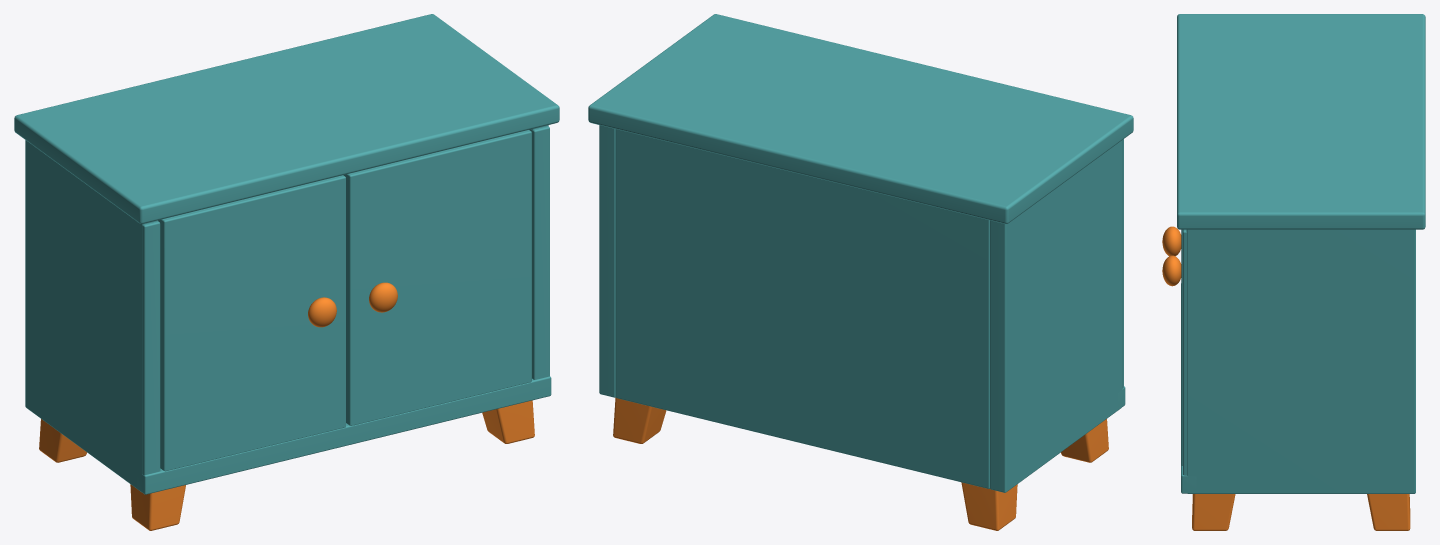
3 views of the same model, side by side, from view 1: azimuth 30°, elevation 25°; view 2: azimuth 150°, elevation 25°; view 3: azimuth 270°, elevation 25° (orthographic). The views are drawn at different scales.
Visible parts, largest first — view 1: Overhanging flat top, Left door, Right door, Left side panel, Front bottom rail, Left front stile, Right front stile, Left front orange foot, Right front orange foot, Left rear orange foot, Right round orange knob, Left round orange knob; view 2: Plain full back, Overhanging flat top, Left side panel, Right side panel, Left rear orange foot, Right rear orange foot, Left front orange foot; view 3: Right side panel, Overhanging flat top, Right rear orange foot, Right front orange foot, Right front stile, Right round orange knob, Left round orange knob, Front bottom rail, Right door.
Boxes of the visible parts, x1,y1,x2,y2 form: Overhanging flat top: (14, 14, 559, 223); Left door: (158, 175, 345, 471); Right door: (343, 130, 531, 425); Left side panel: (25, 140, 157, 491); Front bottom rail: (137, 376, 551, 494); Left front stile: (142, 221, 160, 475); Right front stile: (529, 126, 549, 379); Left front orange foot: (130, 484, 185, 530); Right front orange foot: (482, 400, 534, 443); Left rear orange foot: (39, 419, 86, 462); Right round orange knob: (369, 282, 397, 312); Left round orange knob: (308, 297, 336, 327); Plain full back: (615, 129, 989, 488); Overhanging flat top: (588, 14, 1133, 223); Left side panel: (990, 140, 1122, 492); Right side panel: (599, 125, 615, 397); Left rear orange foot: (961, 482, 1017, 530); Right rear orange foot: (613, 397, 666, 443); Left front orange foot: (1061, 419, 1108, 462); Right side panel: (1186, 229, 1415, 493); Overhanging flat top: (1177, 14, 1425, 229); Right rear orange foot: (1367, 494, 1410, 530); Right front orange foot: (1192, 494, 1235, 530); Right front stile: (1183, 229, 1186, 475); Right round orange knob: (1162, 255, 1181, 286); Left round orange knob: (1162, 226, 1181, 256); Front bottom rail: (1181, 283, 1196, 493); Right door: (1181, 229, 1182, 465).
Size of the model in its own units: 1.24 by 0.942 by 0.688.
